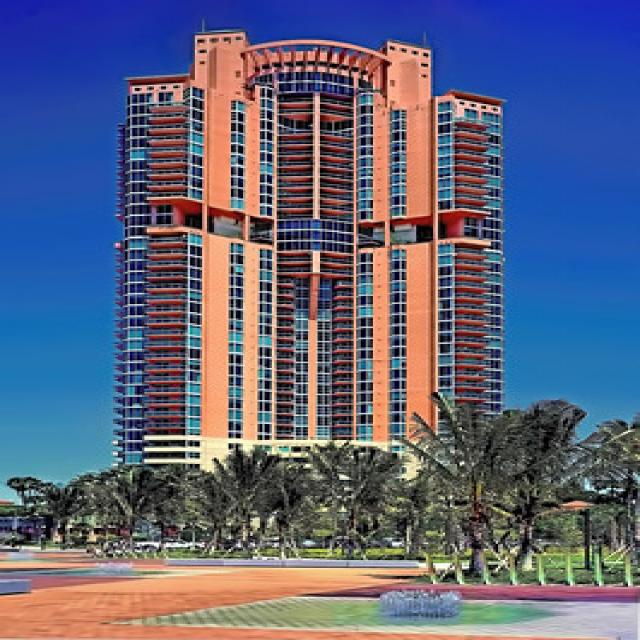Normal_building: (102, 24, 512, 552)
